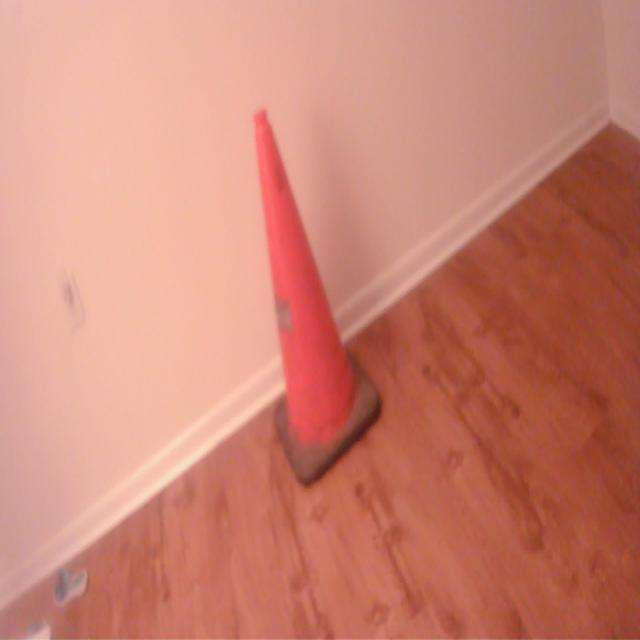traffic cone: (251, 102, 386, 498)
